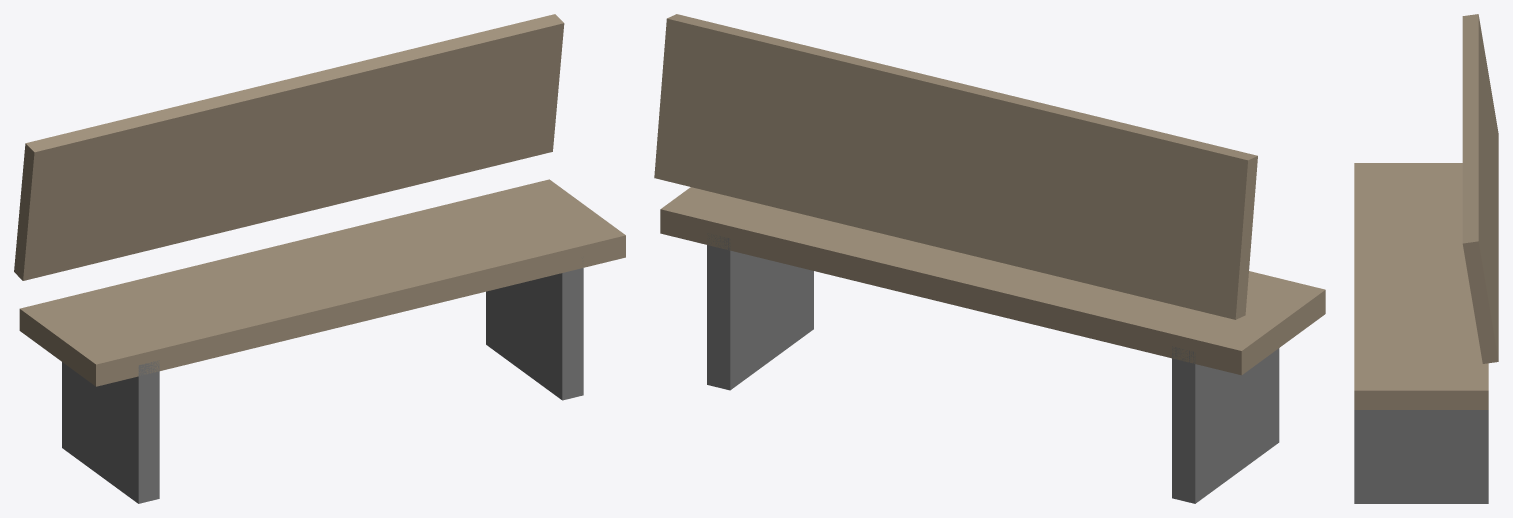
File: Bench.glb
3 views of the same model, side by side, from view 1: azimuth 30°, elevation 25°; view 2: azimuth 150°, elevation 25°; view 3: azimuth 270°, elevation 25° (orthographic). The views are drawn at different scales.
Visible parts, largest first — view 1: world; view 2: world; view 3: world.
Boxes of the visible parts, left/top/right/bottom form: world: left=14, top=14, right=625, bottom=503; world: left=654, top=14, right=1325, bottom=503; world: left=1354, top=14, right=1498, bottom=503.
Size of the model in its own units: 2 by 1.15 by 0.537.
